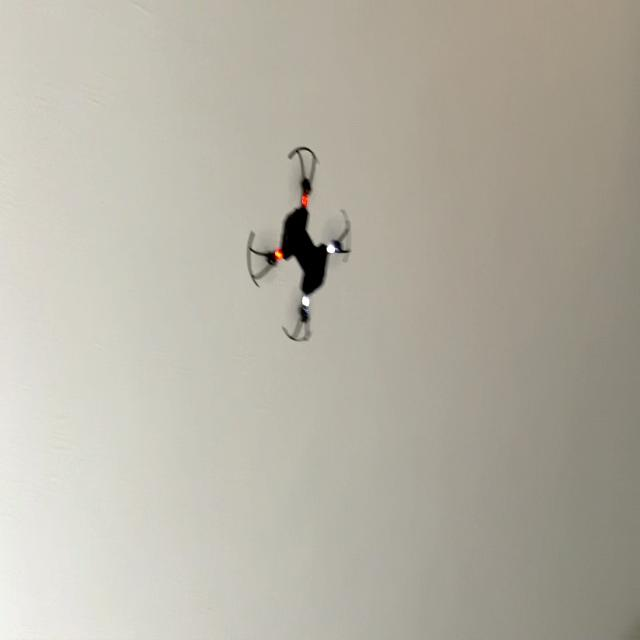drone: (232, 132, 362, 367)
